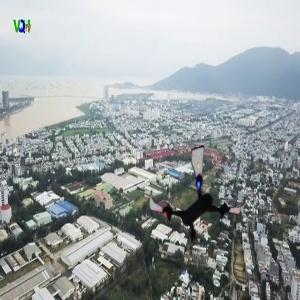drone: (146, 146, 249, 249)
